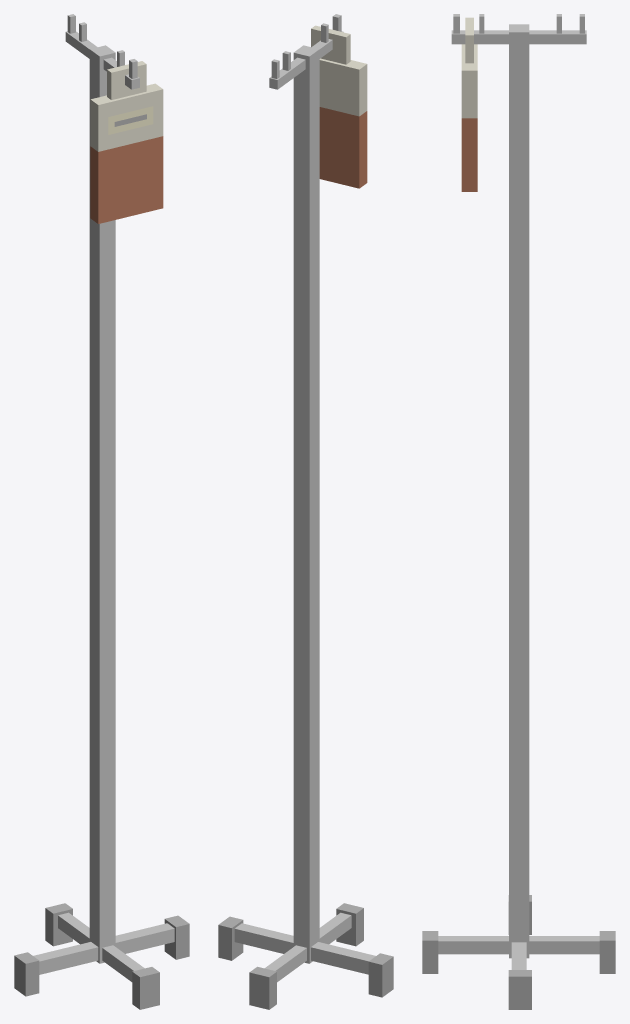
File: dropper1.fbx
The picture shows the model from 3 angles, left to right: view 1: azimuth 30°, elevation 25°; view 2: azimuth 150°, elevation 25°; view 3: azimuth 270°, elevation 25°; orthographic projection. The views are drawn at different scales.
Visible parts, largest first — view 1: Cube_2; view 2: Cube_2; view 3: Cube_2.
Boxes of the visible parts, x1,y1,x2,y2 form: Cube_2: [14, 14, 189, 1009]; Cube_2: [218, 14, 393, 1009]; Cube_2: [422, 14, 615, 1009].
Size of the model in its own units: 10.3 by 56.08 by 10.3.
